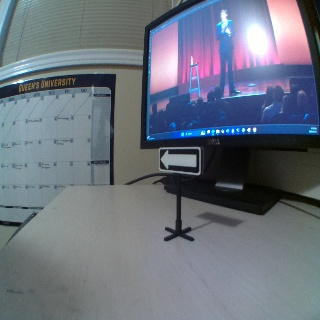sign_oneway_left: (156, 143, 200, 174)
